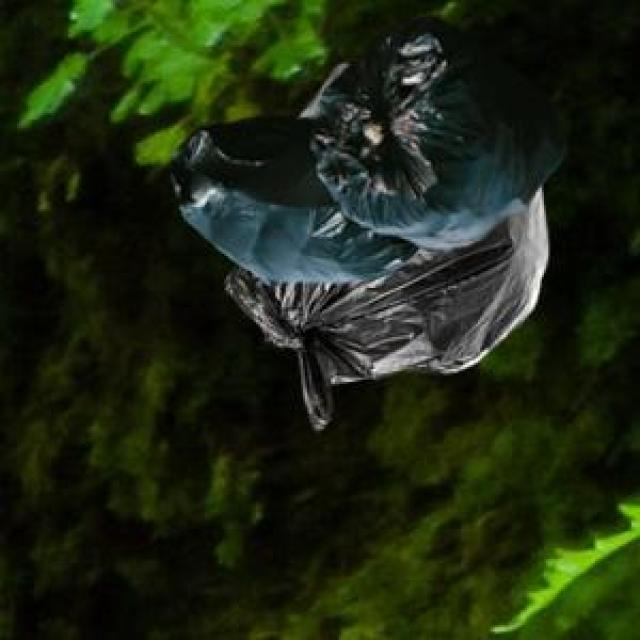waste: (172, 26, 564, 428)
